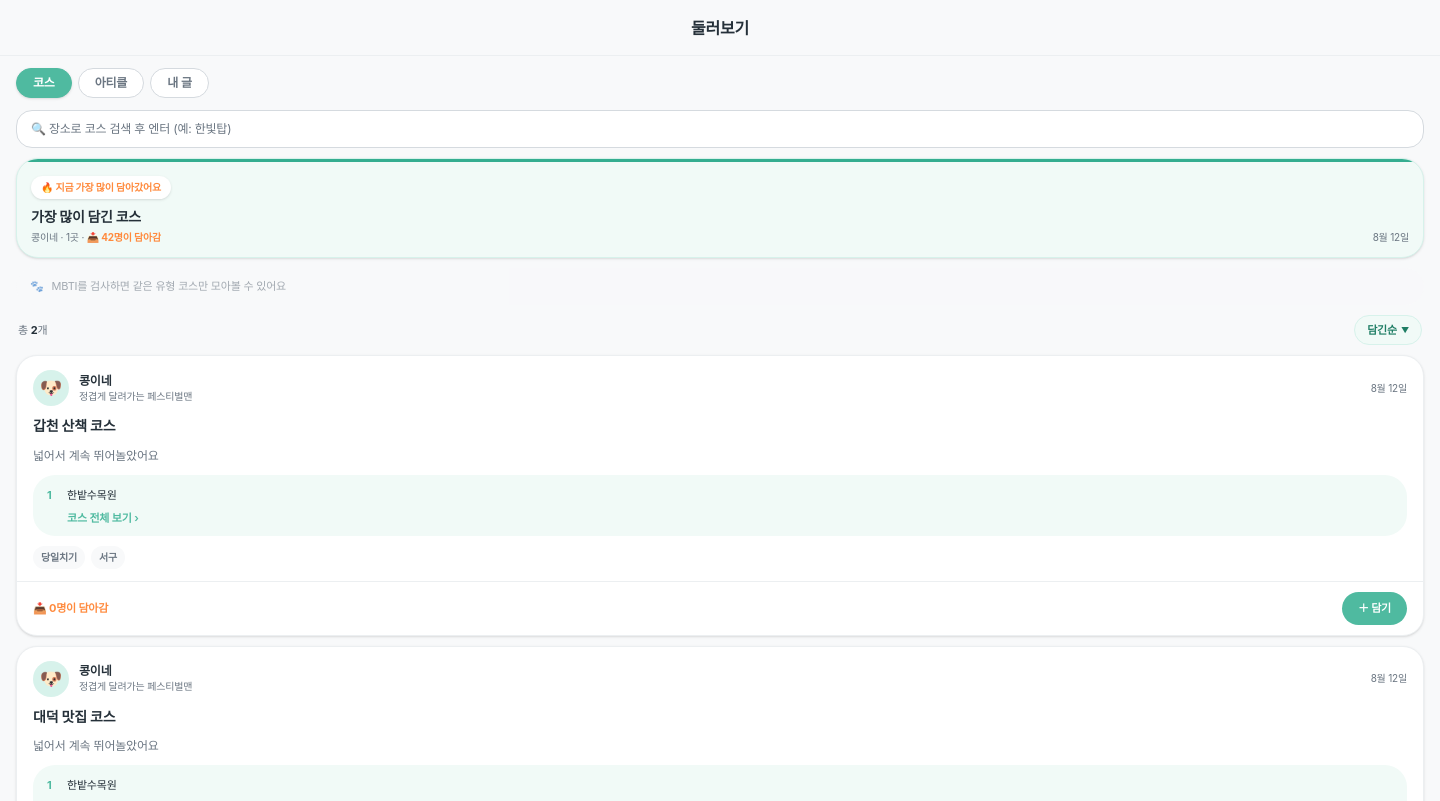
둘러보기 — 코스 탭 › 검색 결과가 있으면 검색어와 건수를 함께 보여준다
Type "한빛탑" into the search field labelled "장소로 코스 검색". click: (720, 129)
box: x1=16 y1=110 x2=1424 y2=148
Then press Enter
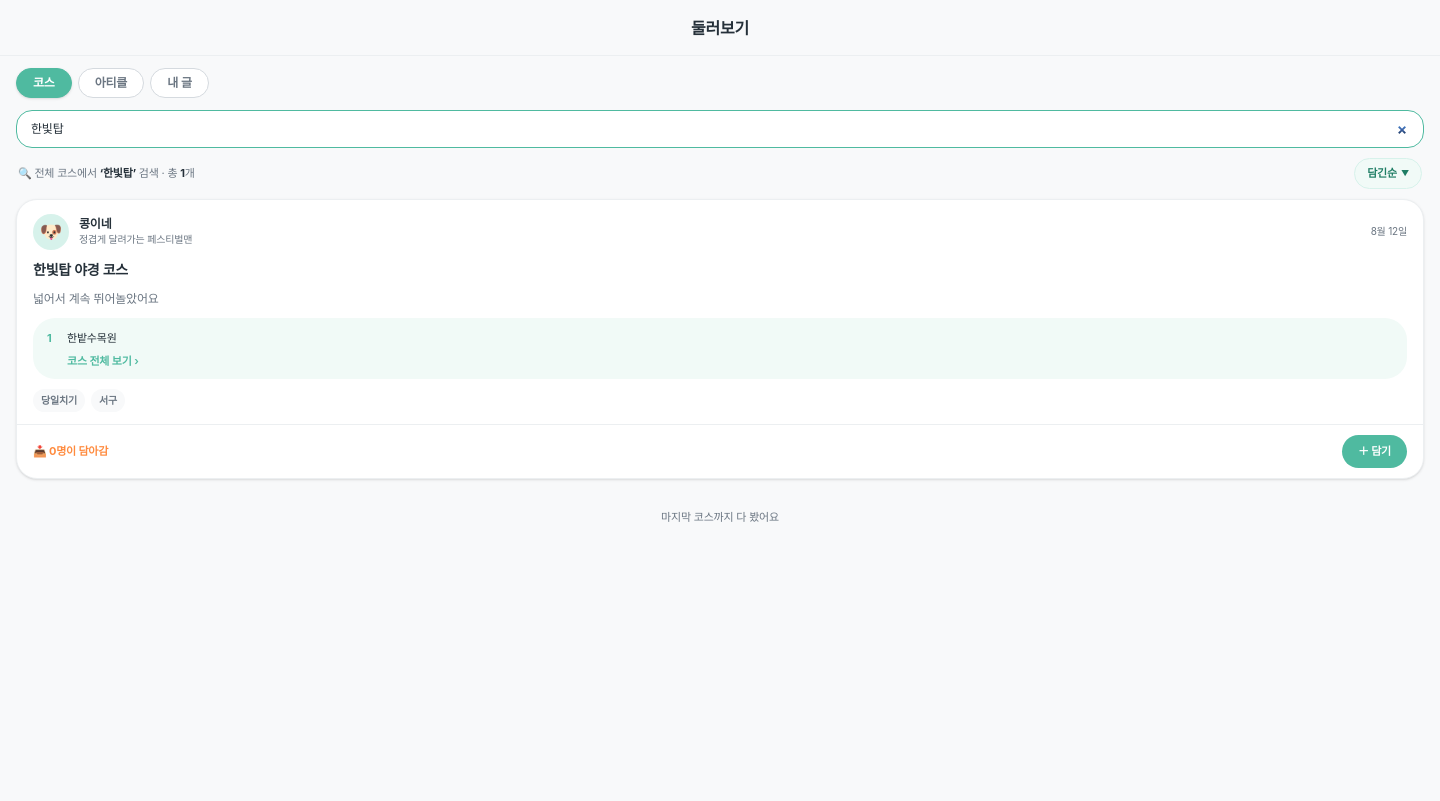
Check: the text "한빛탑 야경 코스" is shown, box x1=33 y1=260 x2=128 y2=278
